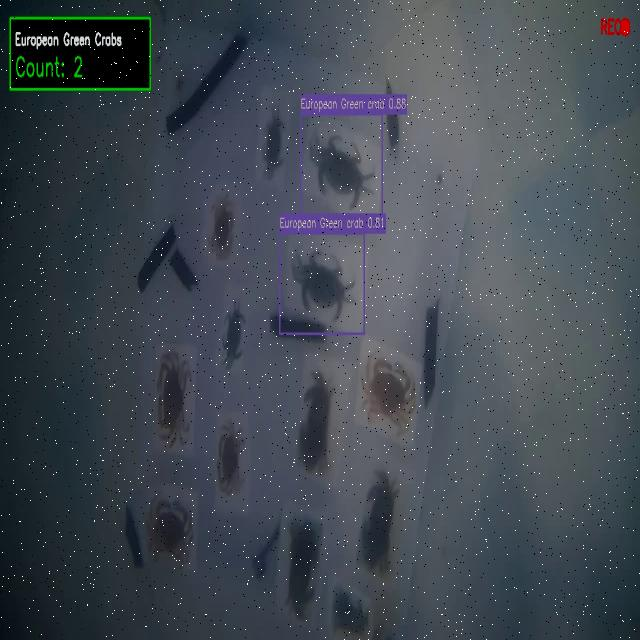European_Green_Crab: (301, 120, 379, 217), (284, 241, 360, 328), (216, 293, 249, 368), (263, 106, 291, 176)
